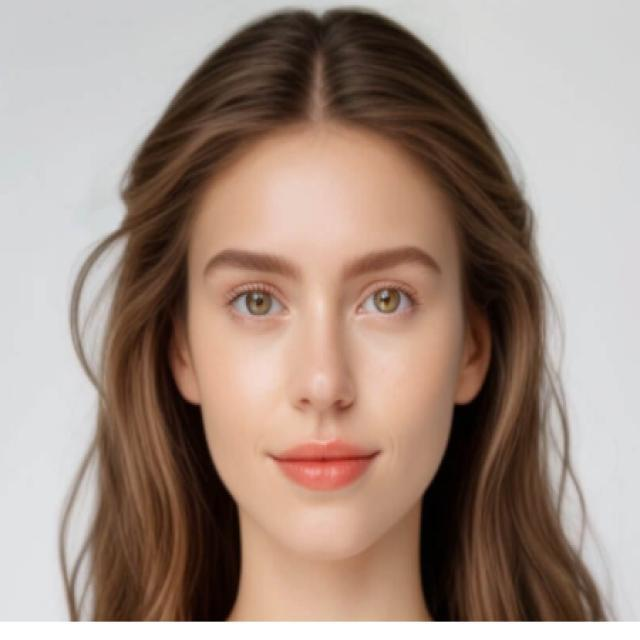face_no_mask: (157, 155, 485, 565)
